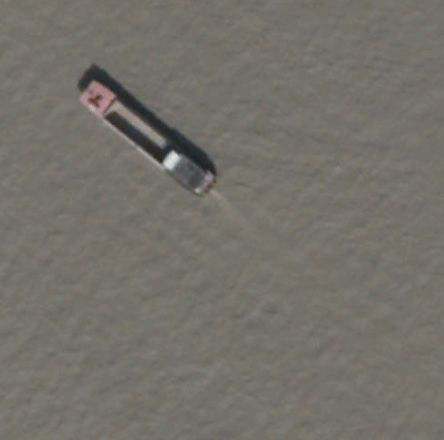boat: (74, 78, 218, 199)
